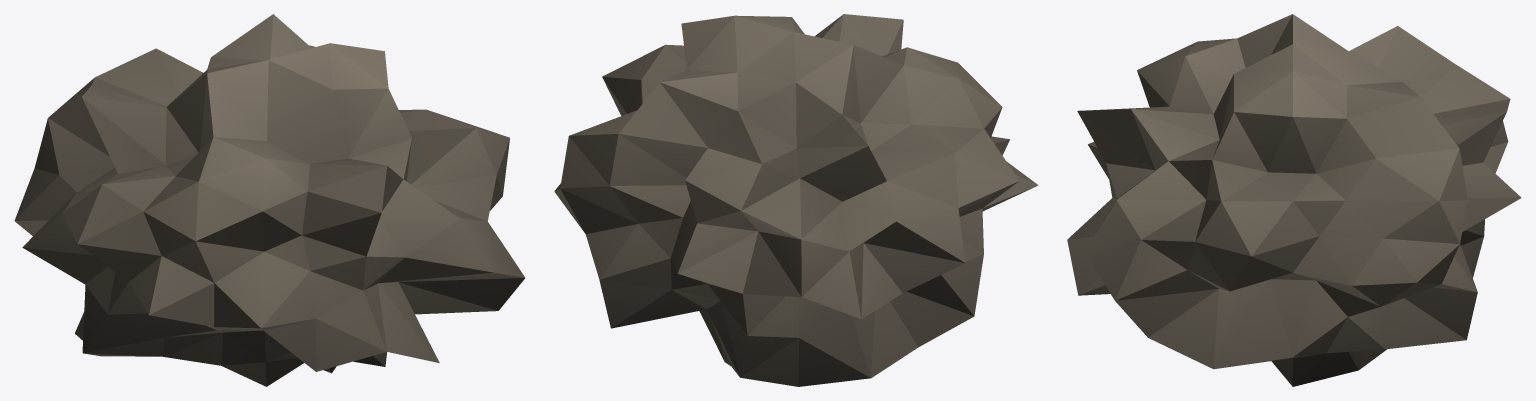
Rendered from rocha-grande.glb.
3 views of the same model, side by side, from view 1: azimuth 30°, elevation 25°; view 2: azimuth 150°, elevation 25°; view 3: azimuth 270°, elevation 25° (orthographic). The views are drawn at different scales.
Parts seen in each view (by area): view 1: rocha-grande; view 2: rocha-grande; view 3: rocha-grande.
Part boxes in pixels (x1,y1,x2,y2): rocha-grande: (14,14,525,386); rocha-grande: (554,14,1038,386); rocha-grande: (1067,14,1521,386).
Bounding box in the file's own units: 2.38 × 1.74 × 2.28.
